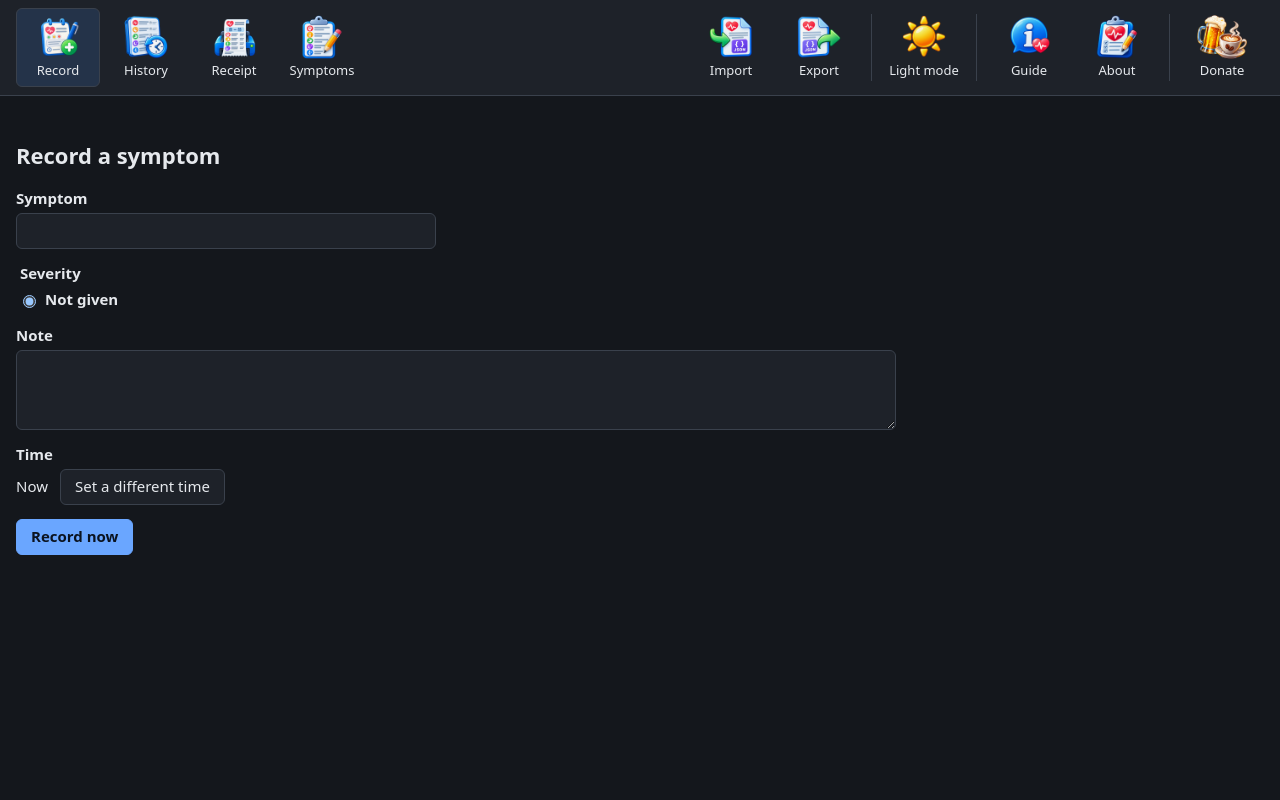
Test case: the shell › opens on the recording form and moves between the screens
Check: the heading "Record a symptom" is shown, box top-left (16, 140), bottom-right (220, 170)
Click the button "History". click: click(146, 47)
box: top-left (104, 8), bottom-right (188, 87)
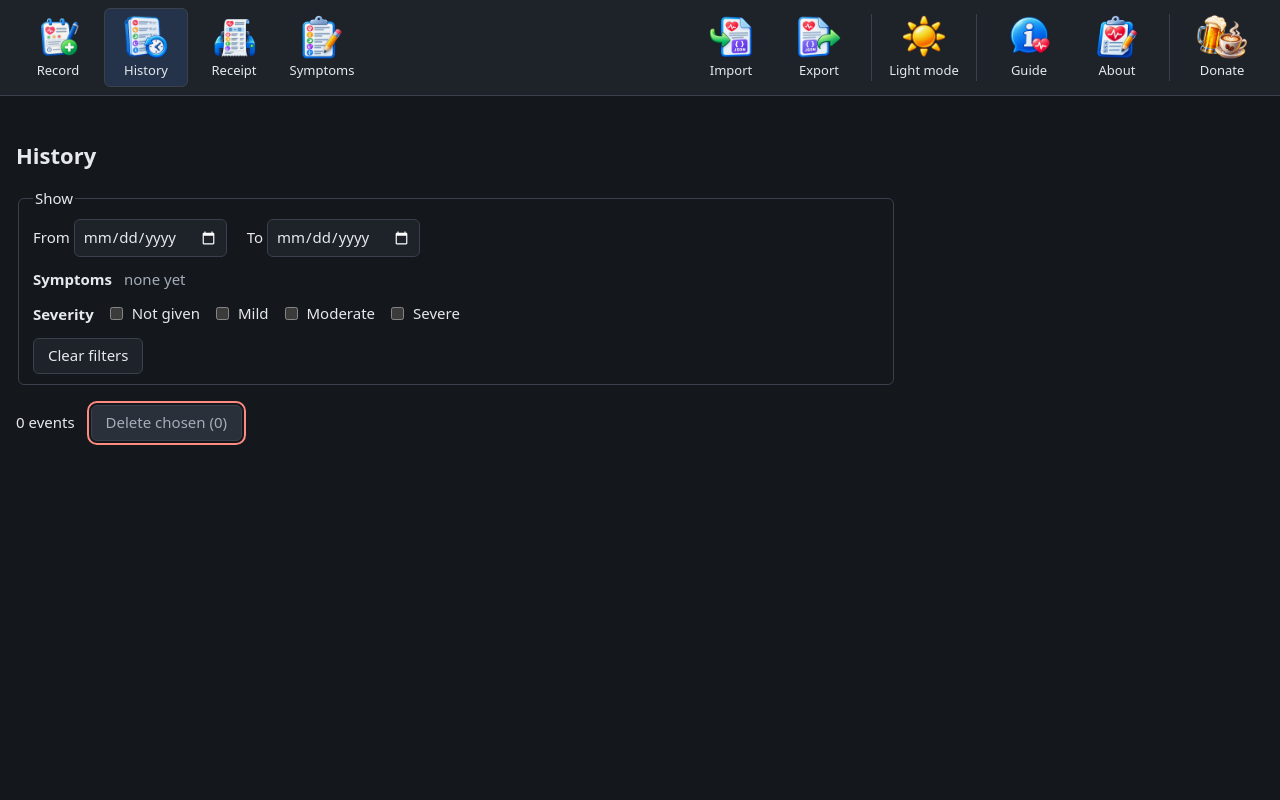
Check: the heading "History" is shown, box top-left (16, 140), bottom-right (96, 170)
Click the button "Receipt". click: click(234, 47)
box: top-left (192, 8), bottom-right (276, 87)
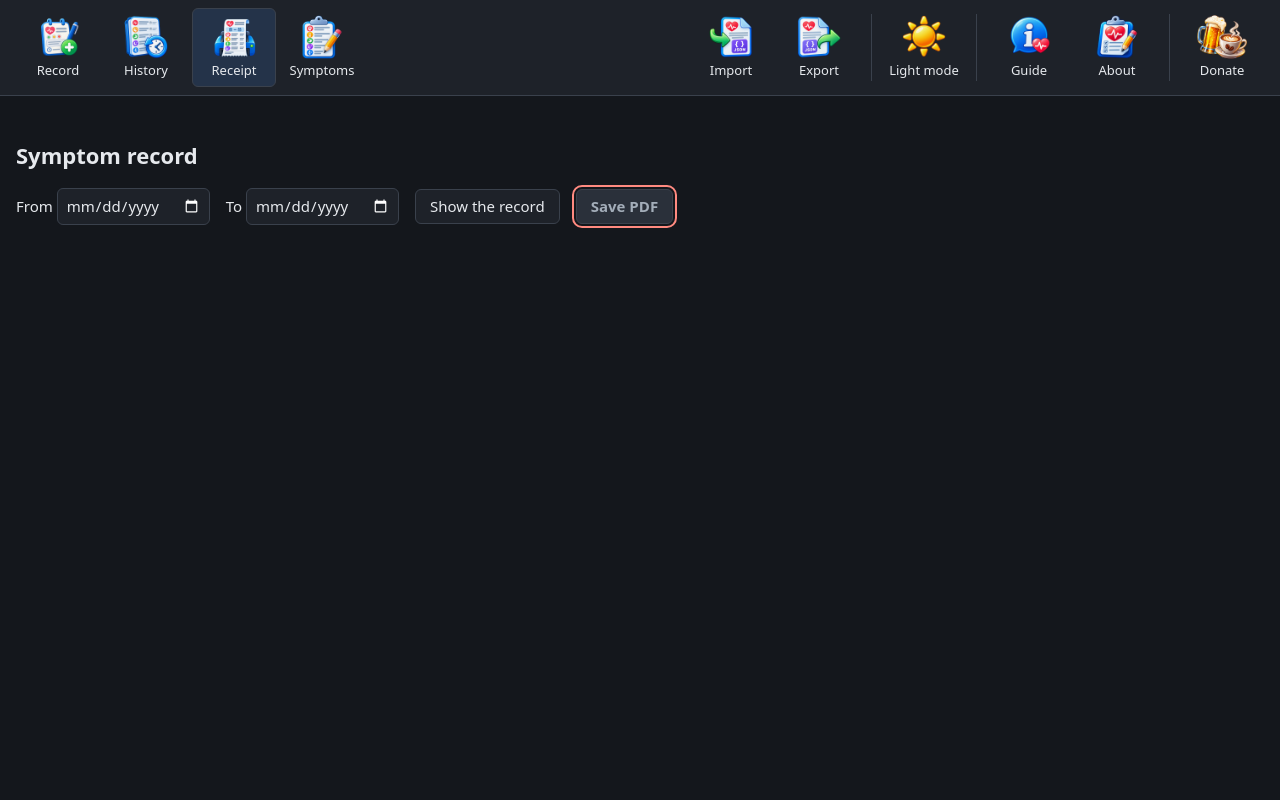
Check: the heading "Symptom record" is shown, box top-left (16, 140), bottom-right (198, 170)
Click the button "Symptoms". click: click(322, 47)
box: top-left (280, 8), bottom-right (364, 87)
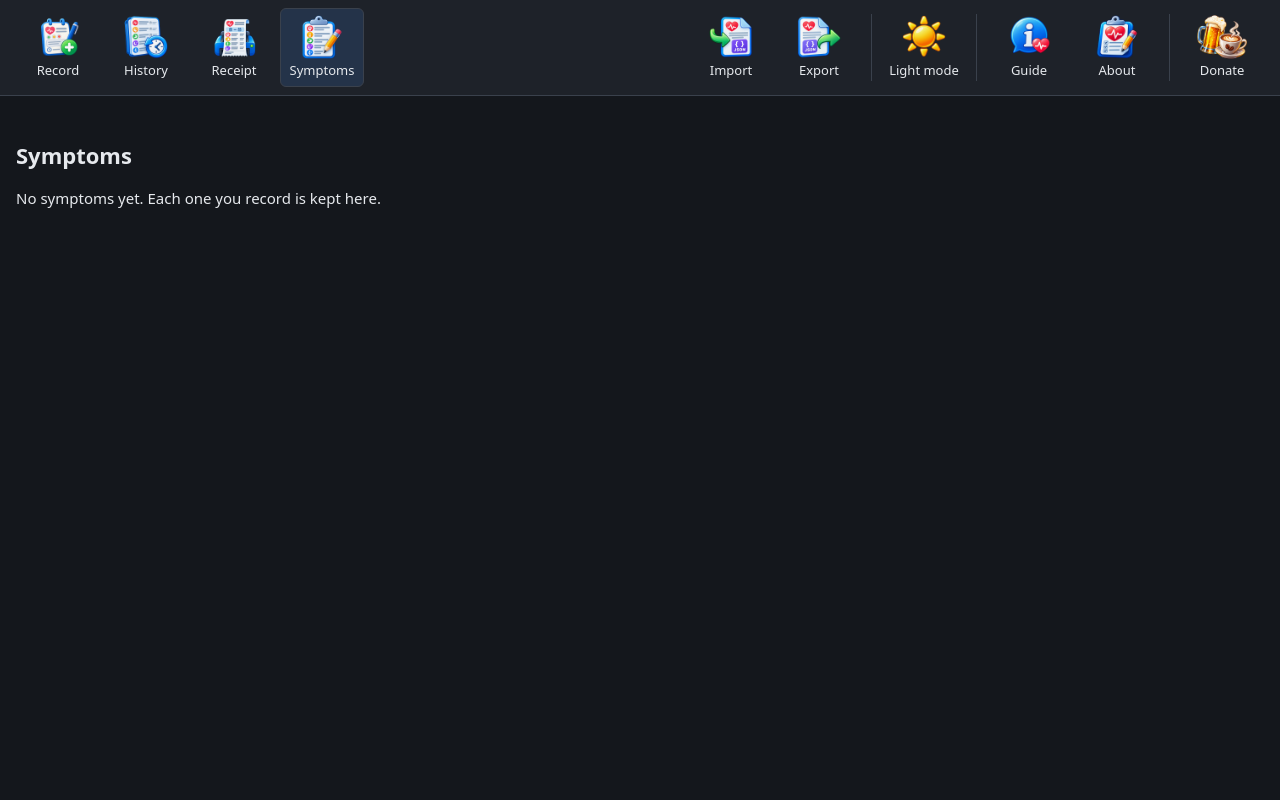
Check: the heading "Symptoms" is shown, box top-left (16, 140), bottom-right (132, 170)
